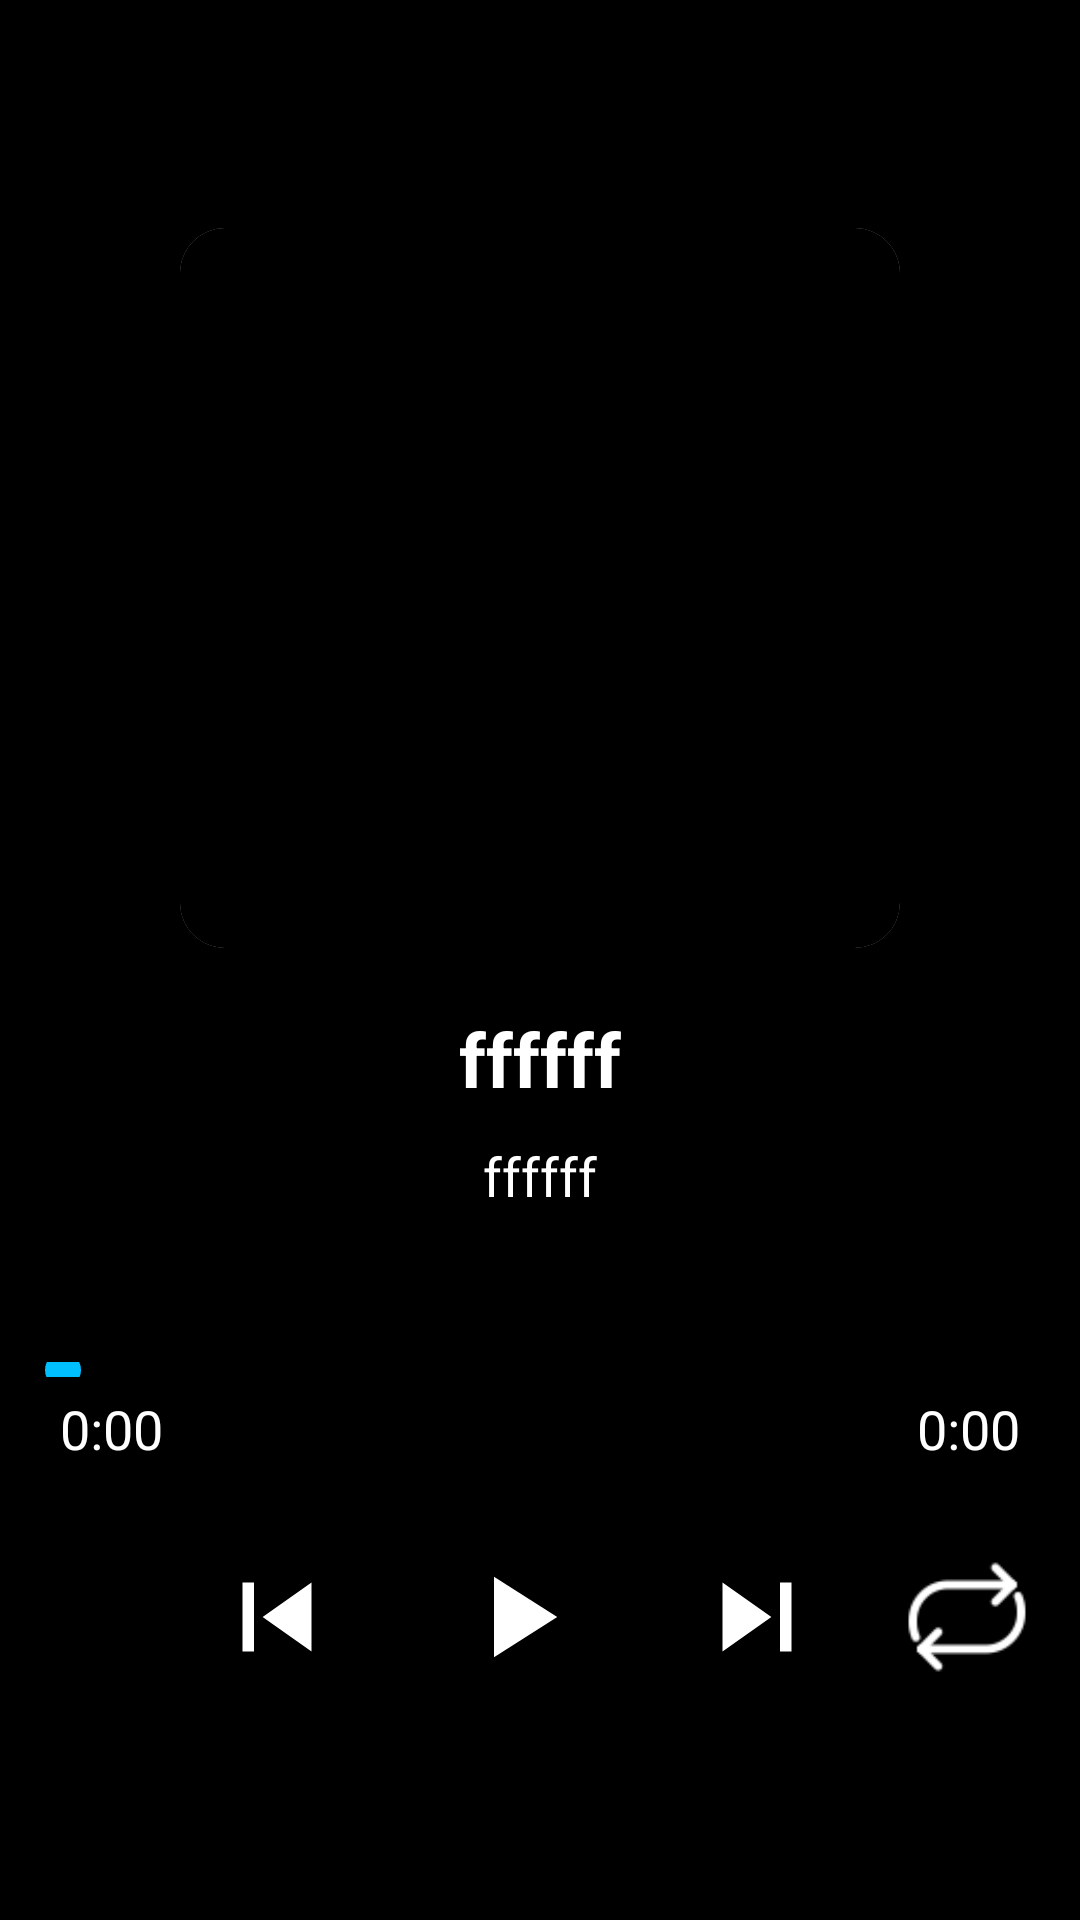

Where icons sit on this 1080×1920 app screen, as (x1=x1, y1=y1, x2=x2, y2=y2):
next: (x1=722, y1=1582, x2=792, y2=1652)
play: (x1=494, y1=1577, x2=557, y2=1657)
previous: (x1=242, y1=1582, x2=312, y2=1652)
repeat: (x1=908, y1=1562, x2=1026, y2=1672)
